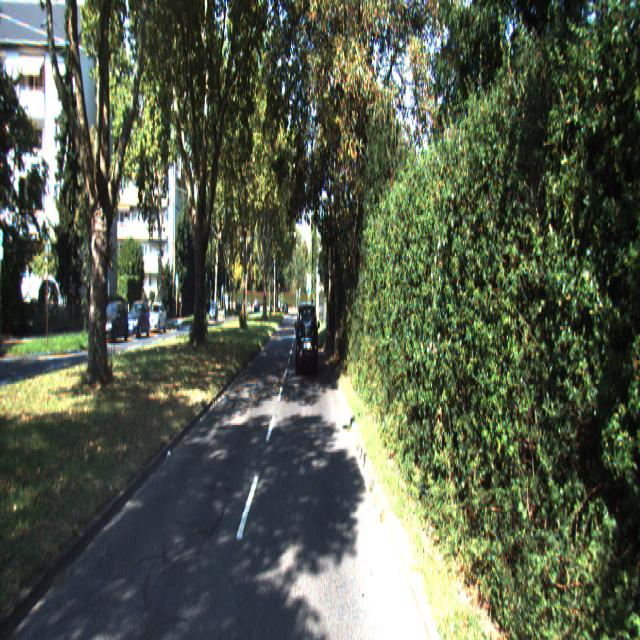Car: (295, 303, 319, 377), (97, 302, 130, 344), (125, 303, 151, 342), (145, 302, 167, 336)
DontCare: (209, 304, 217, 318), (282, 299, 288, 313), (253, 299, 260, 311)
